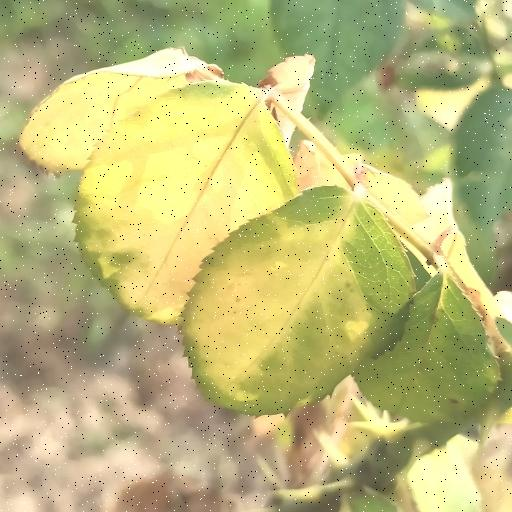healthy_leaf: (355, 273, 499, 422)
thrip: (75, 81, 298, 324), (182, 186, 414, 414), (20, 48, 212, 174), (258, 54, 314, 111), (276, 112, 294, 145)
